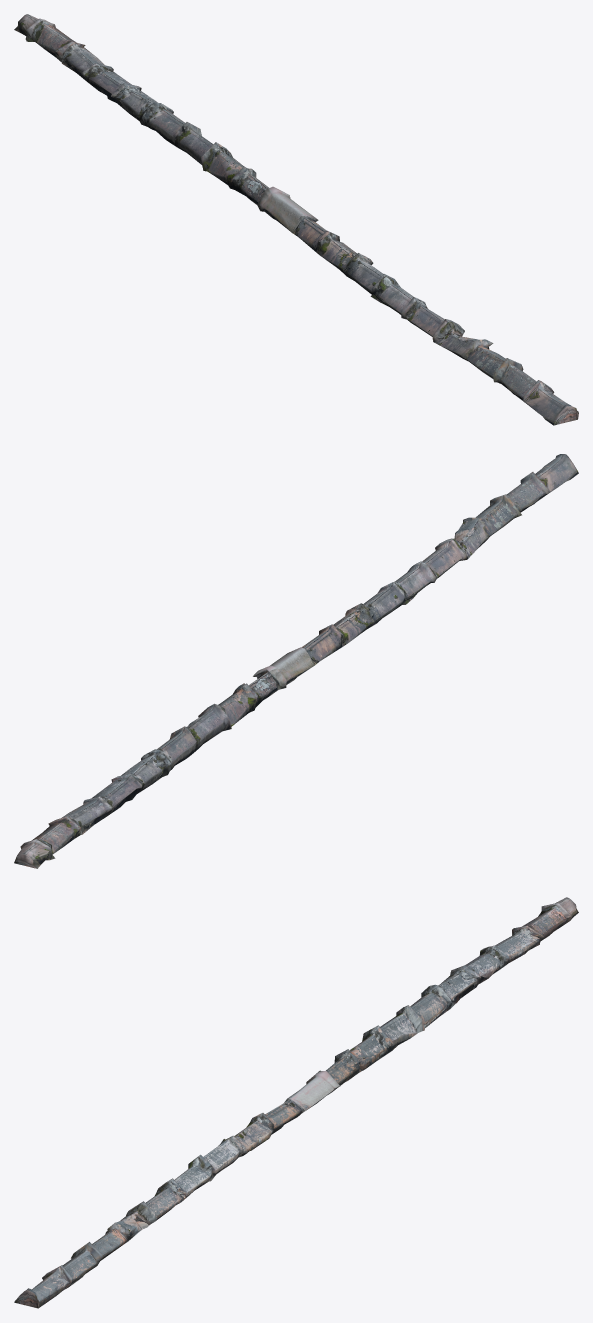
The model's file is sm_Roof_01_03.fbx.
The picture shows the model from 3 angles, top to bottom: view 1: azimuth 30°, elevation 25°; view 2: azimuth 150°, elevation 25°; view 3: azimuth 330°, elevation 25°; orthographic projection.
Parts seen in each view (by area): view 1: sm_Roof_01_03_LOD0; view 2: sm_Roof_01_03_LOD0; view 3: sm_Roof_01_03_LOD0.
Part boxes in pixels (bbox=[...]): sm_Roof_01_03_LOD0: bbox=[14, 14, 578, 425]; sm_Roof_01_03_LOD0: bbox=[14, 454, 578, 868]; sm_Roof_01_03_LOD0: bbox=[14, 897, 578, 1308].
Size of the model in its own units: 19.35 by 500 by 12.23.
